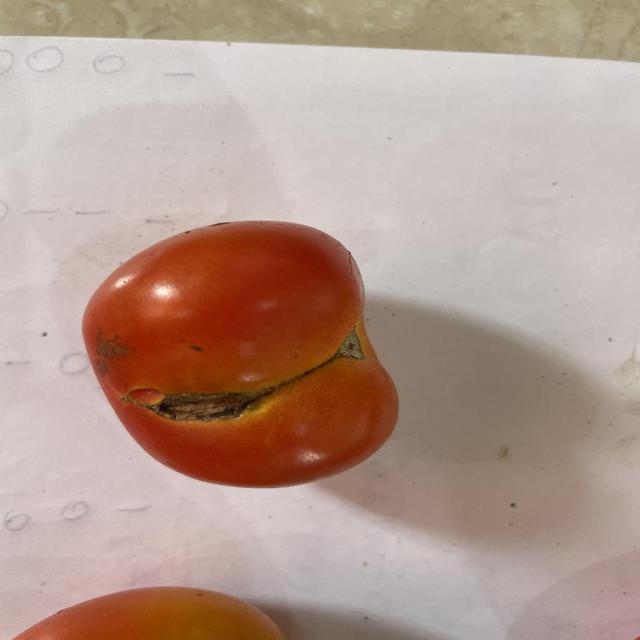Cracking Fruit: (85, 151, 262, 411)
